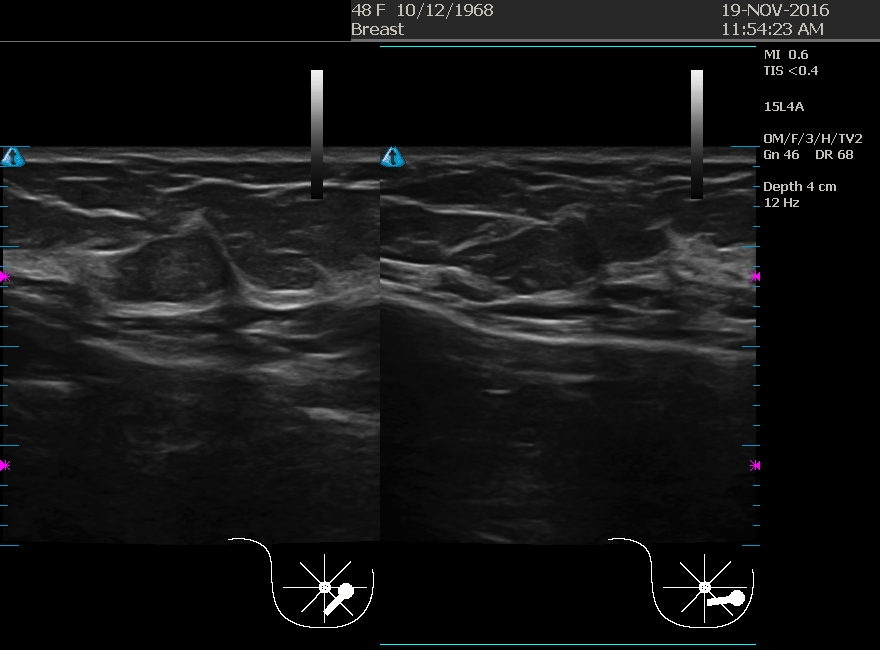Benign: (65, 163, 265, 363), (424, 176, 624, 376)
